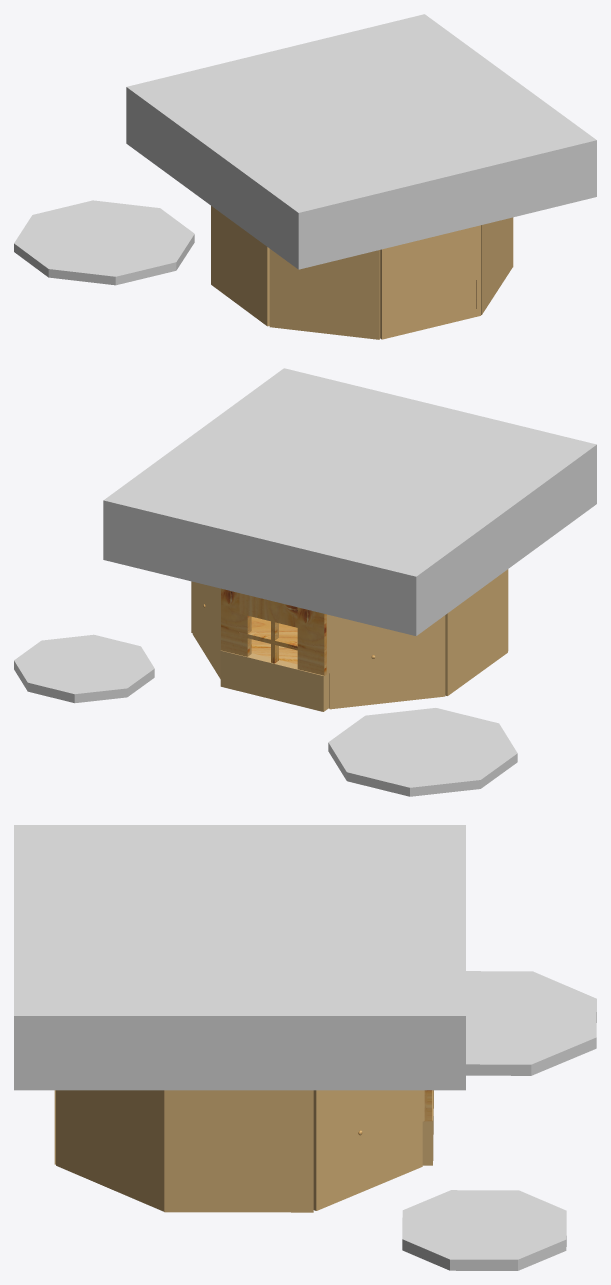
The model's file is HanselAndGretel.fbx.
3 views of the same model, one above another, from view 1: azimuth 30°, elevation 25°; view 2: azimuth 150°, elevation 25°; view 3: azimuth 270°, elevation 25° (orthographic). The views are drawn at different scales.
Visible parts, largest first — view 1: Cube.002, 円, 円.002; view 2: Cube.002, 円, 円.002, 円.001, Cube.001; view 3: Cube.002, 円, 円.002, 円.001.
Part boxes in pixels (x1,y1,x2,y2): Cube.002: (126, 14, 596, 269); 円: (211, 206, 513, 339); 円.002: (14, 200, 194, 285); Cube.002: (103, 368, 596, 635); 円: (191, 569, 508, 711); 円.002: (328, 708, 517, 796); 円.001: (14, 634, 154, 703); Cube.001: (221, 588, 326, 675); Cube.002: (14, 825, 465, 1090); 円: (54, 1090, 433, 1212); 円.002: (466, 971, 596, 1075); 円.001: (402, 1190, 566, 1270).
Size of the model in its own units: 1207 by 416 by 1031.
